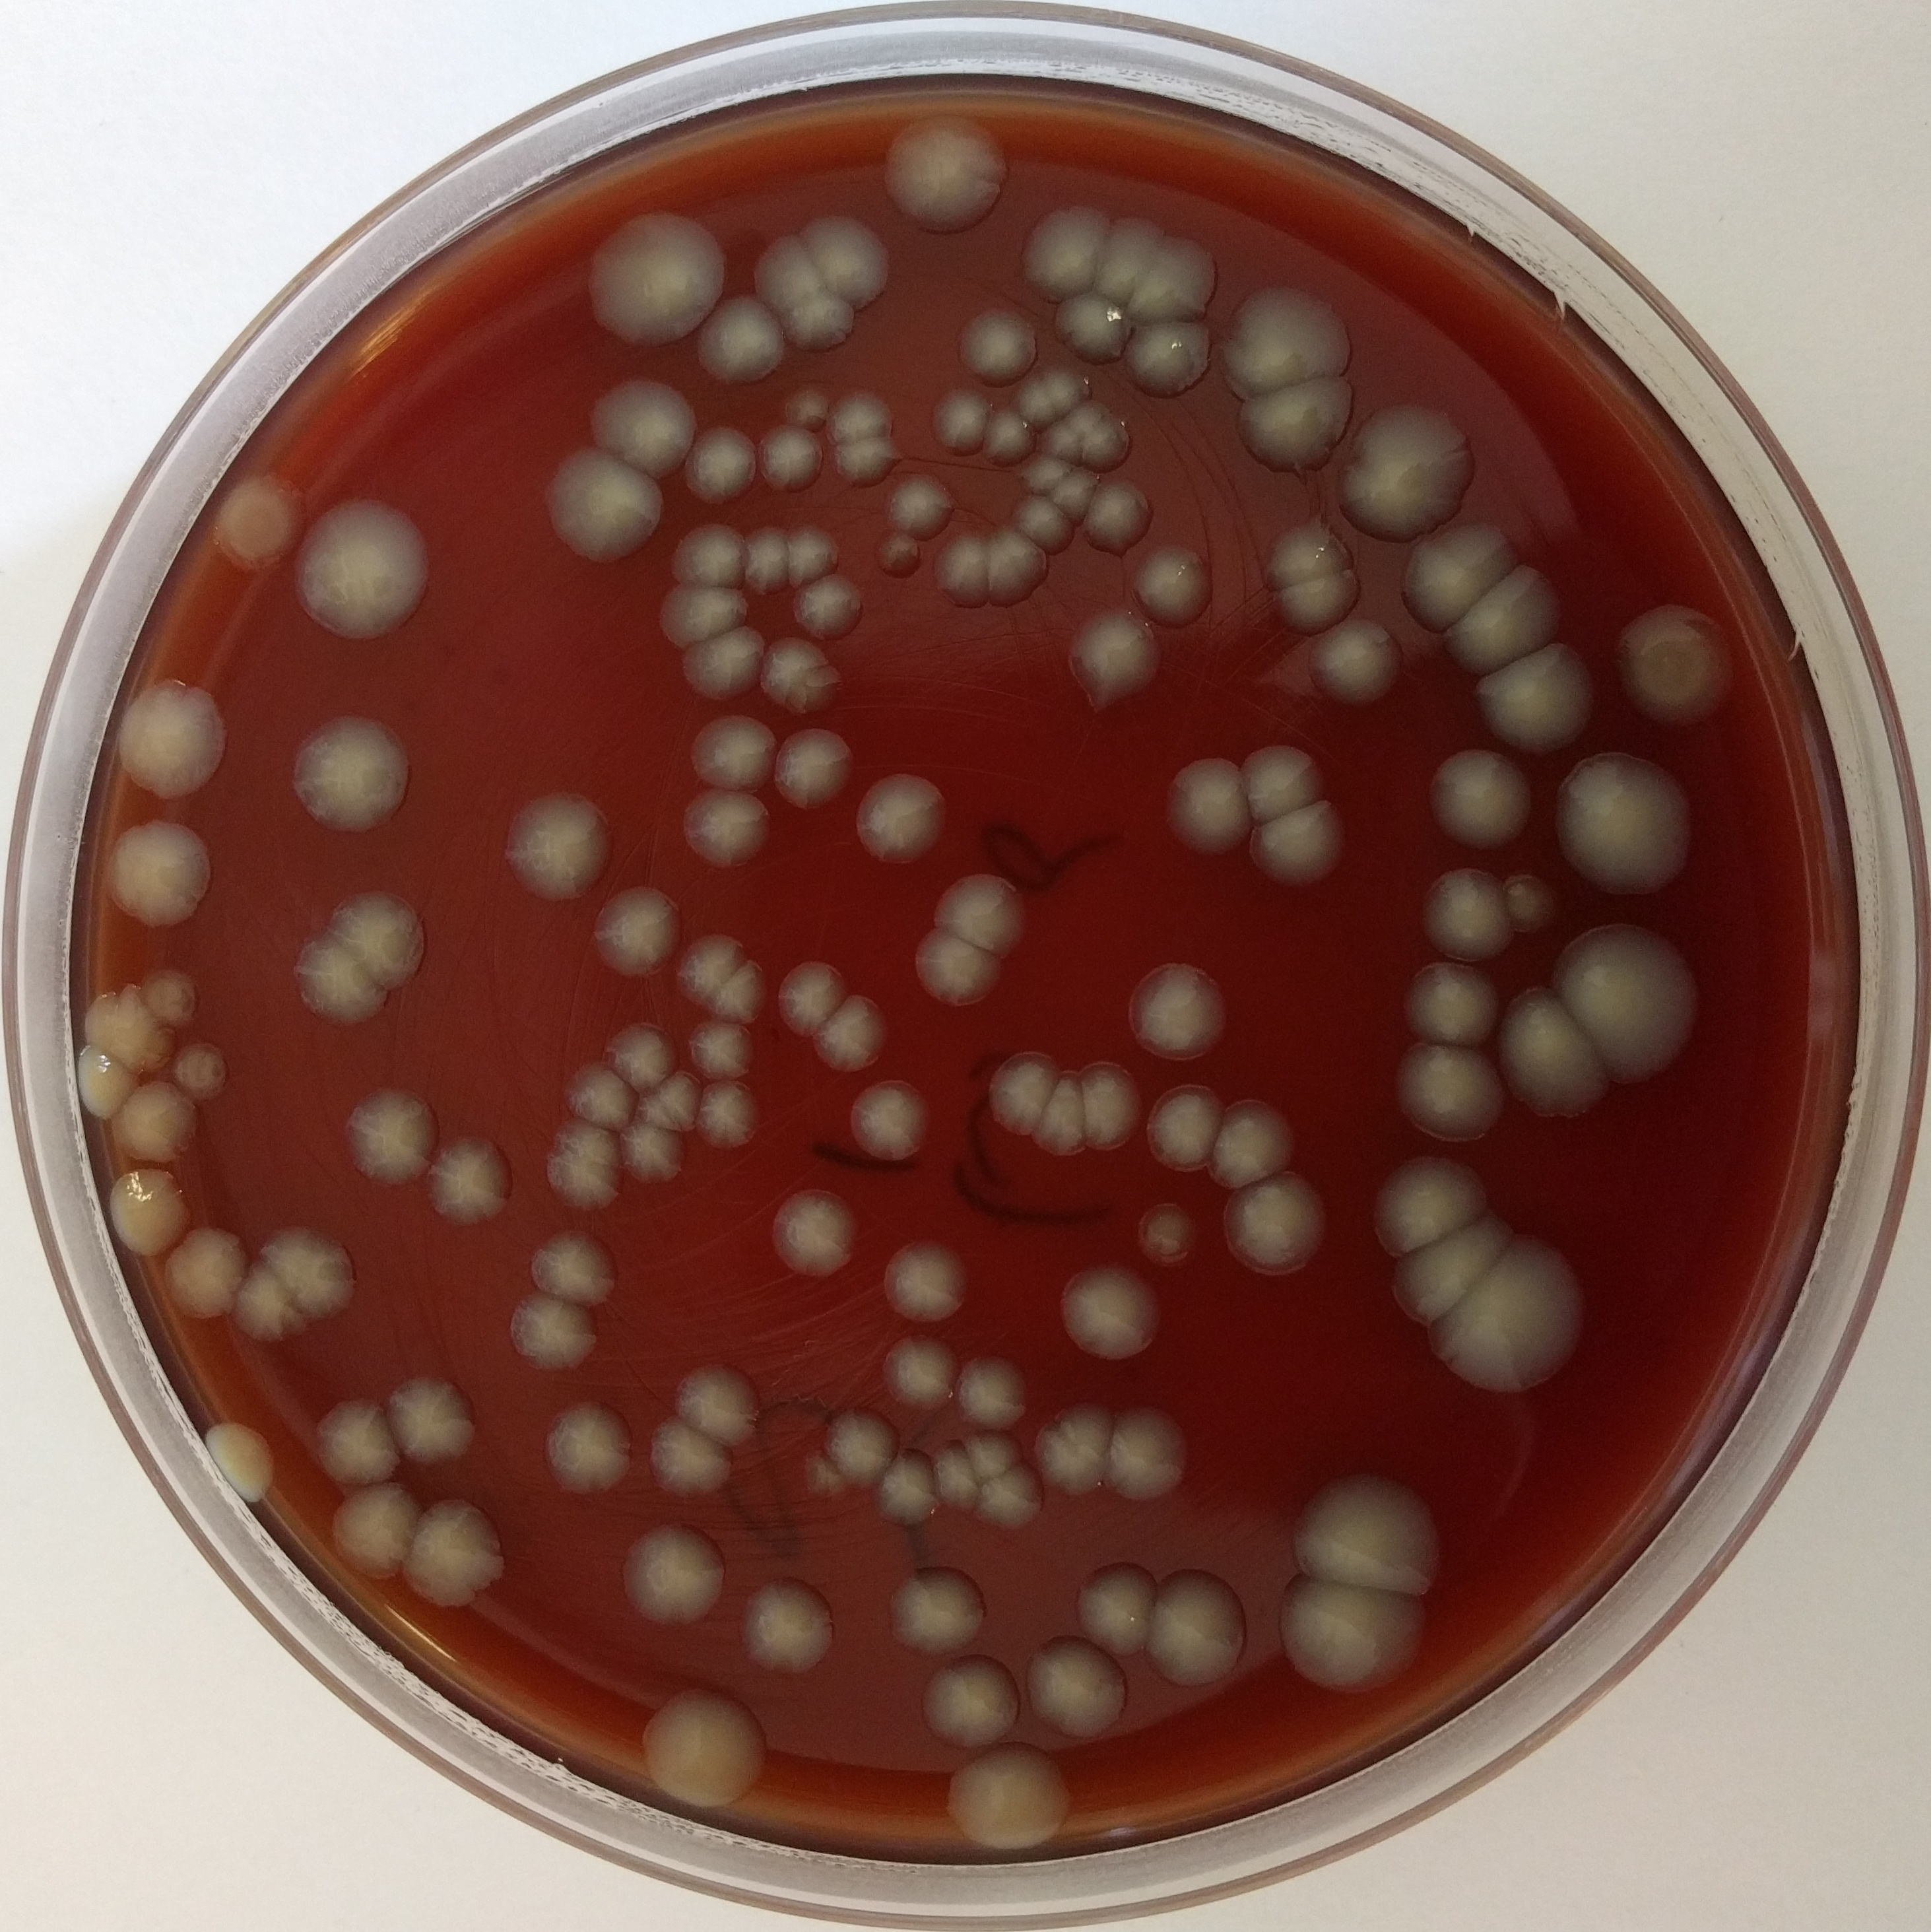sp05: (1420, 1226, 1590, 1401), (569, 198, 737, 354), (1554, 925, 1703, 1086), (1551, 750, 1706, 901), (286, 488, 435, 642), (1328, 402, 1484, 541), (1278, 1571, 1439, 1700), (1291, 1467, 1445, 1601), (877, 96, 1019, 237), (631, 1684, 783, 1813), (1606, 598, 1742, 738), (285, 709, 423, 846), (1215, 278, 1362, 405), (1386, 1201, 1528, 1332), (108, 676, 242, 812), (92, 812, 225, 939), (495, 784, 626, 909), (1461, 646, 1599, 761), (1496, 985, 1611, 1123), (1441, 556, 1572, 676), (536, 453, 670, 570), (1218, 1159, 1337, 1288), (612, 1516, 741, 1635), (1142, 1562, 1257, 1693), (941, 1739, 1075, 1851), (1416, 745, 1547, 858), (1393, 525, 1526, 637), (1385, 1031, 1510, 1148), (1365, 1146, 1494, 1258), (1126, 952, 1241, 1072), (1222, 382, 1363, 479), (1052, 1258, 1165, 1375), (1020, 1629, 1132, 1746), (585, 373, 698, 487), (1057, 605, 1169, 718), (325, 890, 442, 994), (407, 1490, 508, 1608), (1093, 1396, 1199, 1507), (255, 1217, 364, 1323), (736, 1578, 843, 1684), (1243, 793, 1360, 890), (884, 1562, 997, 1661), (340, 1086, 442, 1194), (324, 1479, 424, 1589), (914, 1656, 1029, 1752), (154, 1219, 253, 1329), (1156, 757, 1259, 862), (1418, 863, 1523, 966), (760, 1187, 865, 1290), (1070, 1562, 1174, 1665), (872, 1233, 983, 1329), (538, 1399, 642, 1500), (847, 766, 951, 867), (1010, 195, 1107, 303), (200, 474, 308, 571), (378, 1373, 486, 1468), (925, 870, 1040, 959), (799, 211, 904, 308), (688, 295, 794, 391), (1303, 619, 1413, 711), (520, 1224, 630, 1316), (589, 878, 688, 978), (1397, 954, 1500, 1051), (304, 1398, 412, 1490), (101, 1164, 209, 1256), (1208, 1095, 1305, 1196), (679, 782, 782, 878), (663, 1353, 769, 1445), (502, 1288, 608, 1380), (290, 932, 391, 1028), (101, 1081, 203, 1175), (1111, 308, 1215, 400), (426, 1125, 515, 1233), (538, 1115, 630, 1217), (1118, 230, 1213, 327), (944, 301, 1045, 393), (1137, 1079, 1229, 1180), (644, 1417, 748, 1506), (1114, 536, 1213, 628), (1231, 738, 1332, 828), (76, 982, 177, 1072), (905, 924, 1008, 1012), (1072, 1053, 1153, 1162), (840, 1081, 941, 1169), (228, 1256, 317, 1355), (674, 623, 775, 708), (980, 1047, 1066, 1145), (688, 709, 776, 803), (193, 1419, 285, 1507), (1034, 1399, 1118, 1497), (759, 635, 849, 724), (1268, 570, 1374, 644), (1045, 285, 1137, 370), (767, 954, 856, 1040), (879, 1327, 966, 1414), (1093, 207, 1164, 313), (773, 725, 856, 816), (744, 228, 826, 320), (656, 580, 755, 655), (665, 929, 755, 1010), (1027, 1062, 1095, 1168), (921, 527, 1006, 610), (677, 423, 760, 508), (667, 517, 753, 598), (773, 287, 866, 361), (815, 1403, 895, 1490), (591, 1021, 681, 1097), (978, 517, 1052, 609), (746, 414, 829, 495), (695, 1074, 771, 1162), (951, 1348, 1033, 1430), (69, 1037, 145, 1123), (808, 987, 888, 1069), (866, 1438, 935, 1530), (1126, 1194, 1206, 1274), (789, 566, 866, 646), (923, 386, 997, 469), (960, 1458, 1045, 1530), (1266, 522, 1353, 593), (557, 1062, 644, 1132), (999, 487, 1086, 554), (819, 428, 909, 492), (1079, 471, 1148, 554), (775, 515, 849, 591), (684, 1012, 762, 1085), (617, 1113, 688, 1191), (773, 373, 847, 444), (734, 517, 796, 602), (633, 1067, 711, 1134), (918, 1433, 981, 1514), (882, 464, 950, 540), (822, 386, 898, 453), (706, 955, 776, 1026), (136, 964, 214, 1028), (974, 402, 1043, 471), (166, 1040, 237, 1106), (958, 1419, 1026, 1486), (1500, 867, 1563, 938), (1070, 410, 1132, 478), (1038, 462, 1096, 525), (790, 1445, 849, 1507), (875, 522, 928, 586), (1006, 449, 1072, 497), (1036, 359, 1091, 414), (1033, 416, 1088, 465), (1057, 395, 1114, 439), (1011, 375, 1054, 430)
